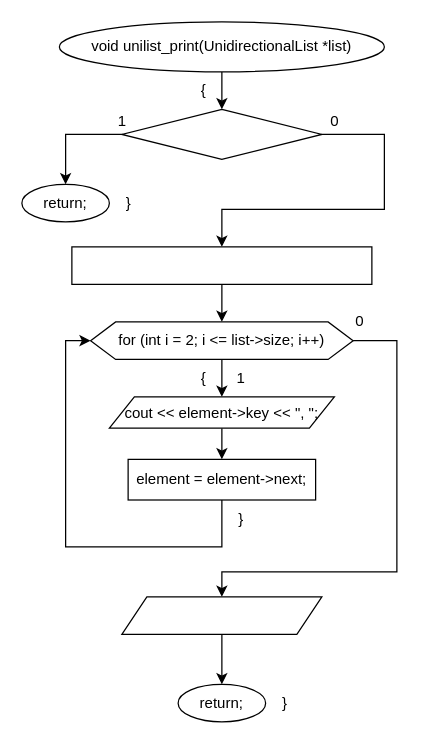
The diagram is 429 pixels wide and 744 high, and some of its shapes have lost their labels. The shapes that lost their labels are listed below. From the top down, each one's box as (x1, y1, x2, y2) in pixels, then its label:
(121, 108, 322, 159): if (list->first == nullptr)
(71, 246, 372, 284): UnidirectionalElement *element = list->first;
(121, 596, 322, 634): cout << element->key;
